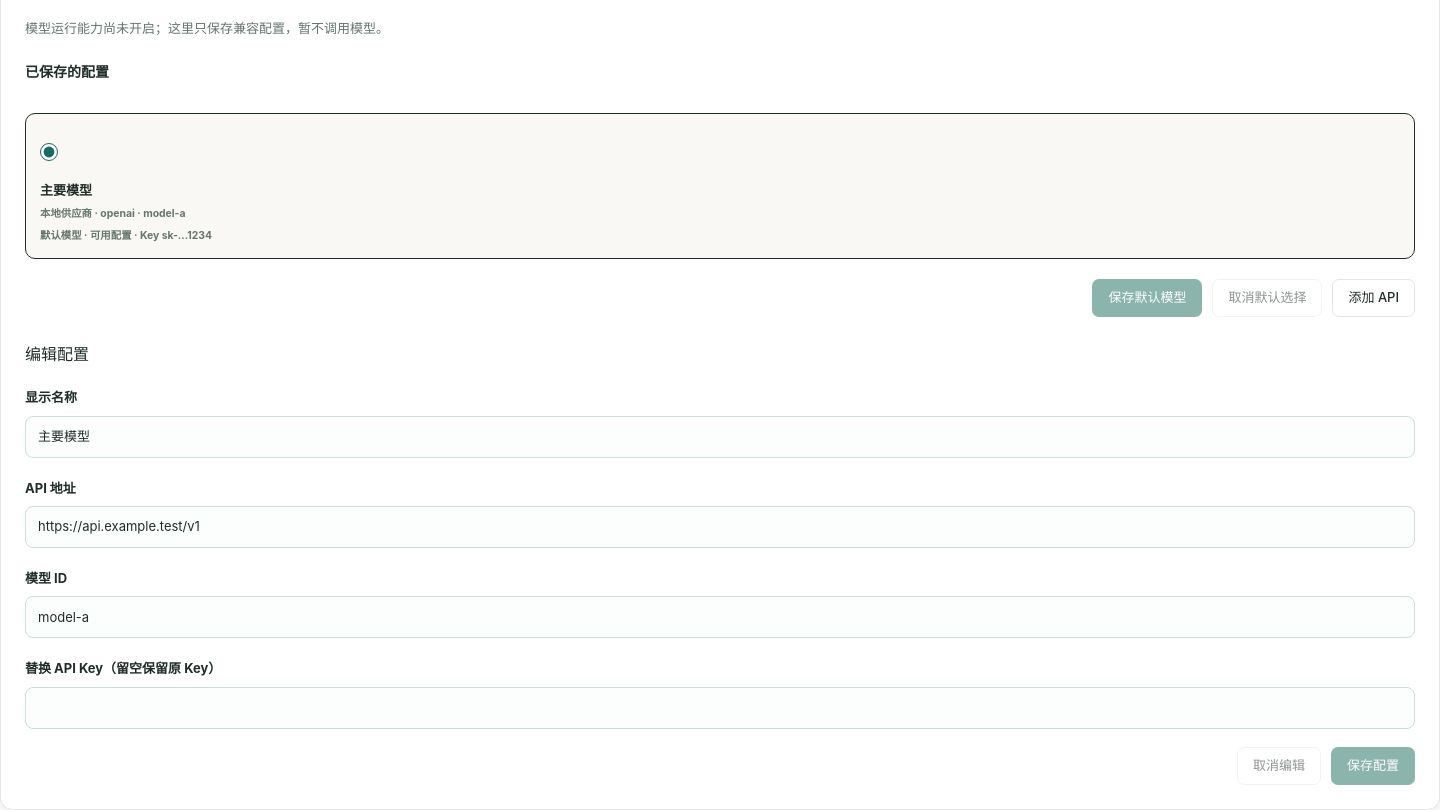
it: ModelConfiguration › clears a submitted key and locks writes until a failed refresh is recovered
Check: the field labelled "模型 ID" is shown, box [25,596,1415,638]
Type "one-time-key" into the password field labelled "替换 API Key（留空保留原 Key）" at (720, 708), box [25,687,1415,729]
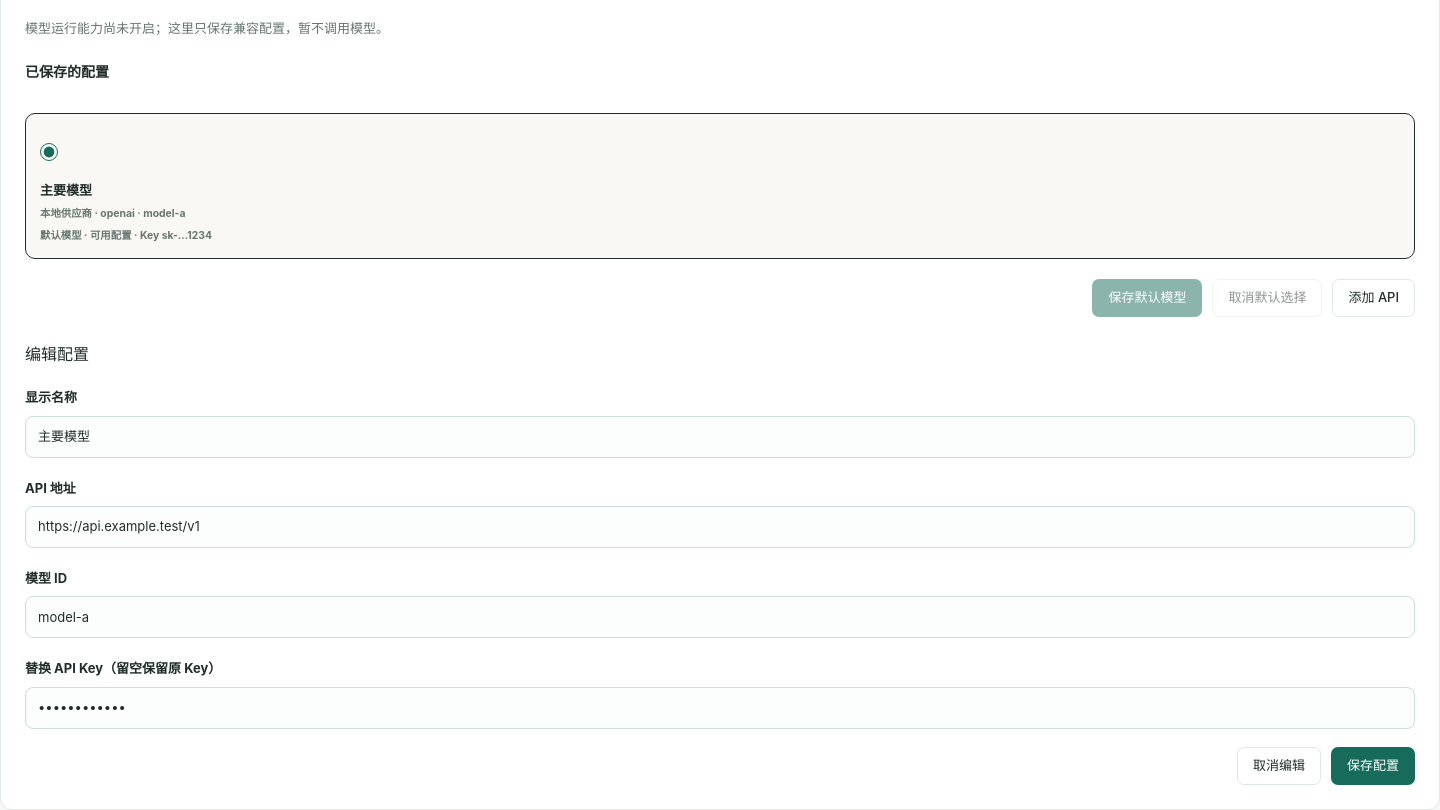
Replace the text in the field labelled "模型 ID" with "saved-model" at (720, 617), box [25,596,1415,638]
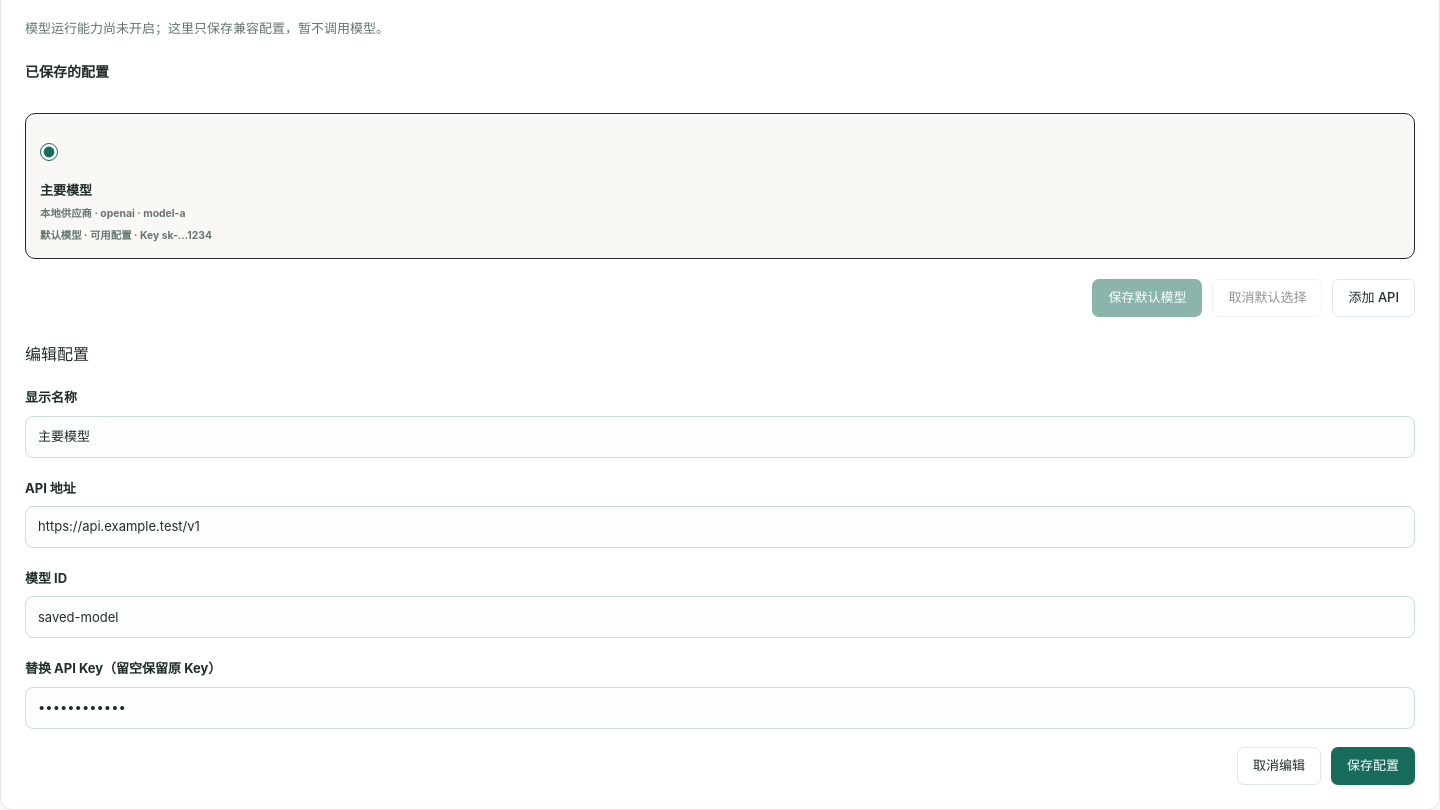
Click the button "保存配置" at (1373, 766), box [1331,747,1415,785]
(page scrolled)
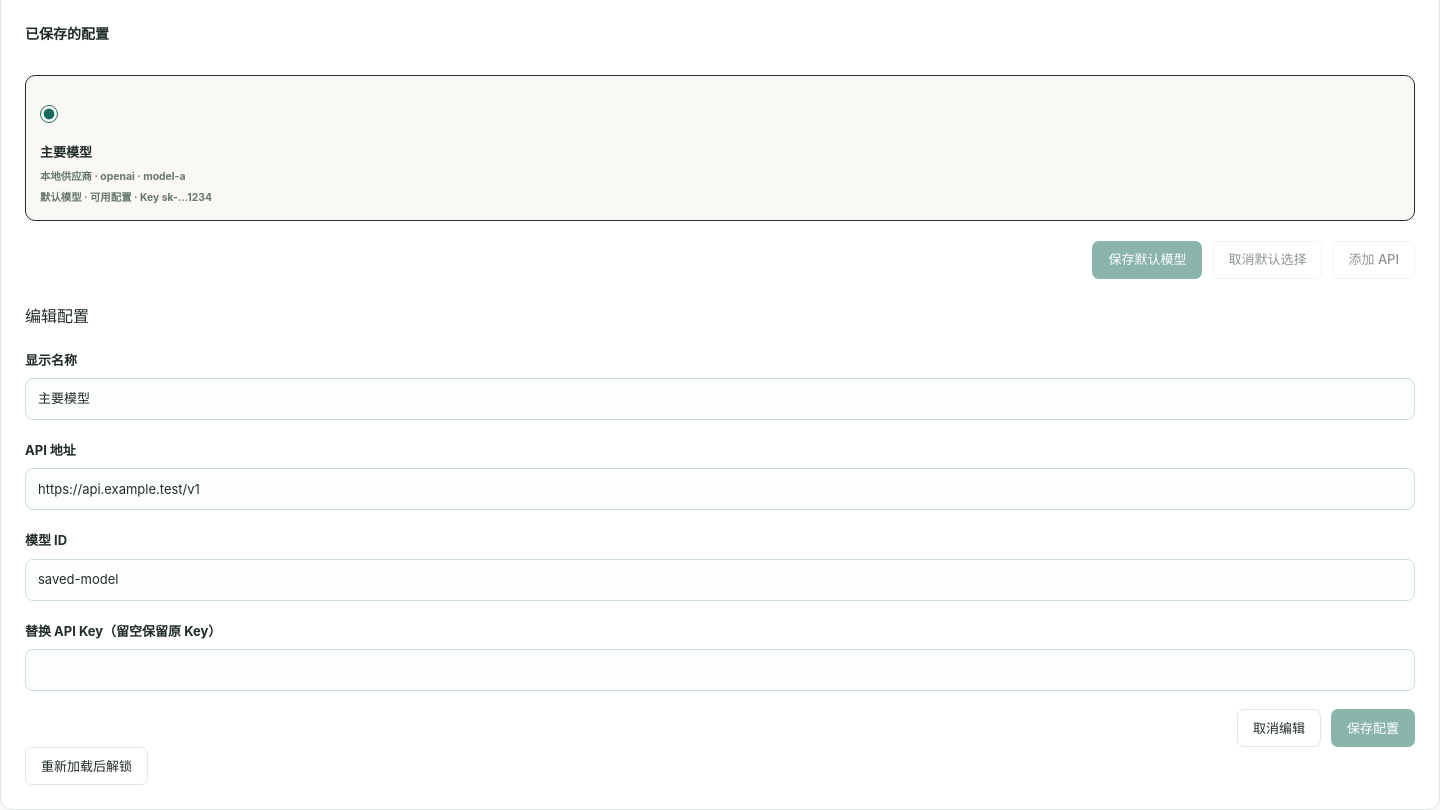
Check: the password field labelled "替换 API Key（留空保留原 Key）" is empty, box [25,649,1415,691]
Check: the button "保存配置" is disabled, box [1331,709,1415,747]
Click the button "重新加载后解锁" at (86, 766), box [25,747,148,785]
(page scrolled)
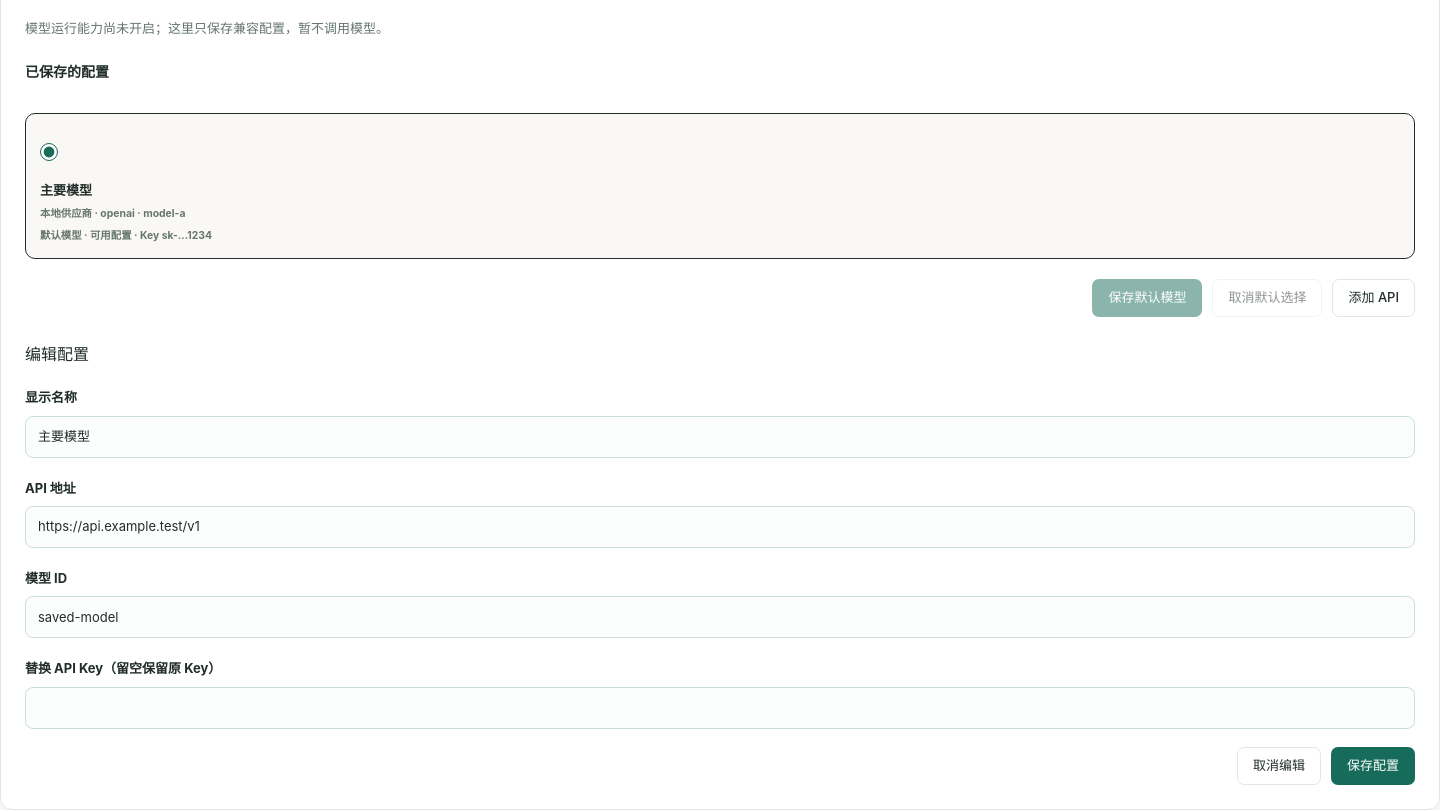
Check: the button "保存配置" is enabled, box [1331,747,1415,785]
